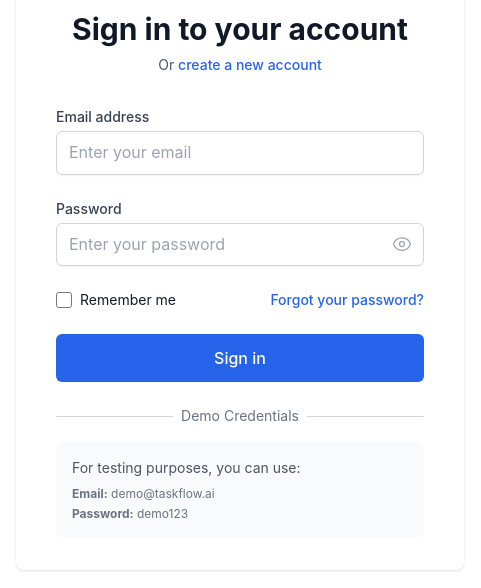
Test: LoginForm Component › shows loading state during submission
The width and height of the screenshot is (481, 588).
In the field labelled "Email address": (240, 153) left=56, top=131, right=424, bottom=175, type "test@example.com"
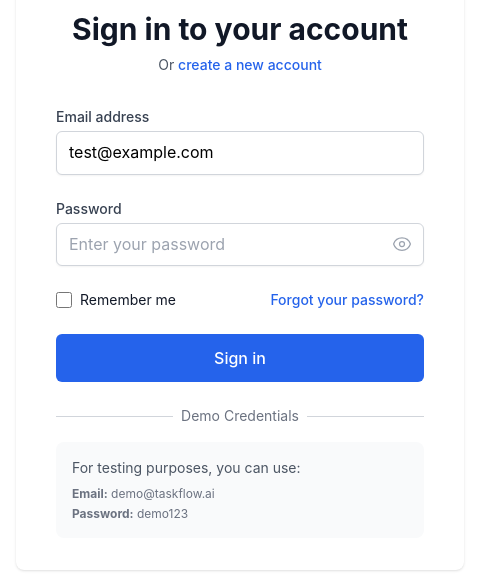
In the password field labelled "Password": (240, 244) left=56, top=223, right=424, bottom=266, type "password123"
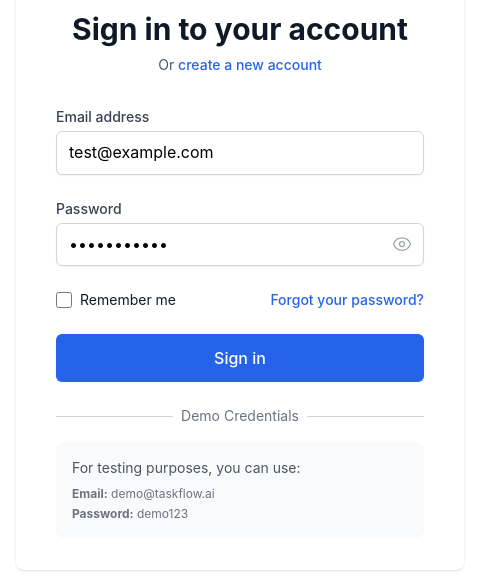
Click the button "Sign in": (240, 358) left=56, top=334, right=424, bottom=382
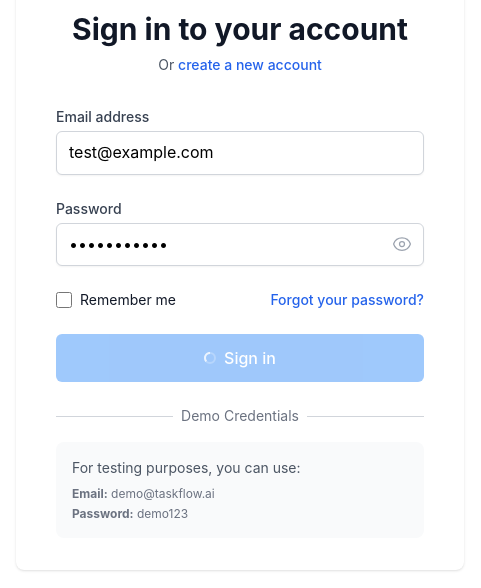
expect the button "Sign in" is disabled: met, box left=56, top=334, right=424, bottom=382
